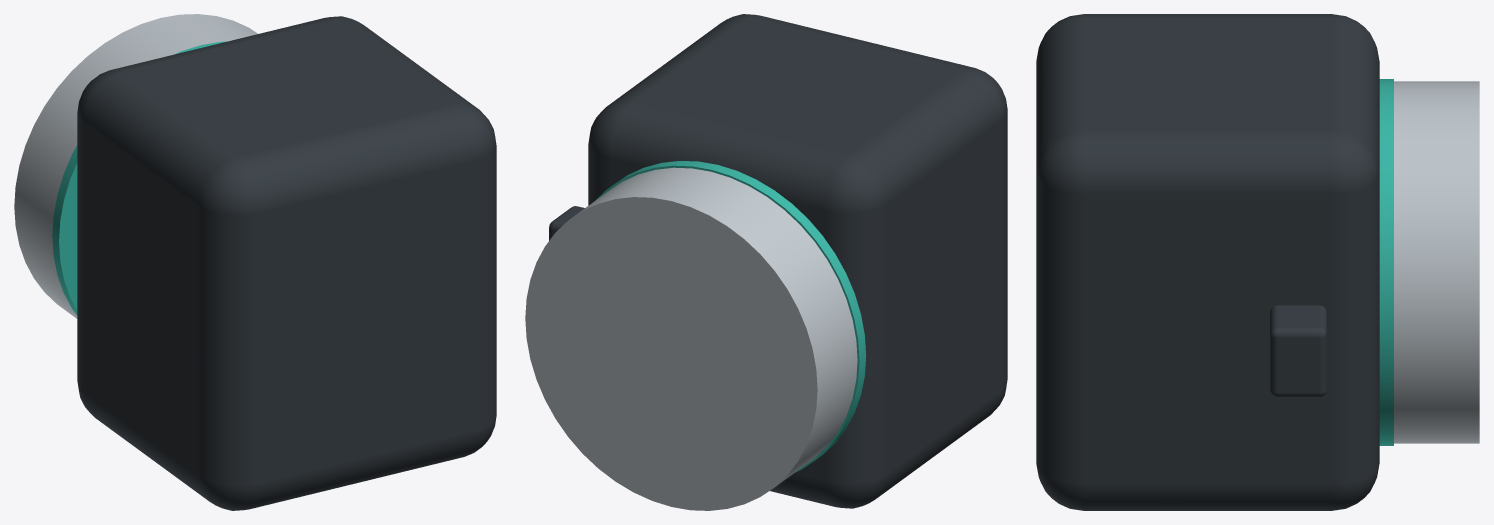
The model's file is mount.obj.
3 views of the same model, side by side, from view 1: azimuth 30°, elevation 25°; view 2: azimuth 150°, elevation 25°; view 3: azimuth 270°, elevation 25° (orthographic). The views are drawn at different scales.
Visible parts, largest first — view 1: housing, robot_flange_clamp_ring, indicator_ring; view 2: housing, robot_flange_clamp_ring, indicator_ring; view 3: housing, robot_flange_clamp_ring, indicator_ring, connector.
Boxes of the visible parts, bbox=[...] form: housing: bbox=[77, 16, 496, 510]; robot_flange_clamp_ring: bbox=[14, 14, 257, 318]; indicator_ring: bbox=[52, 41, 225, 315]; housing: bbox=[588, 14, 1007, 508]; robot_flange_clamp_ring: bbox=[525, 167, 857, 510]; indicator_ring: bbox=[595, 161, 866, 471]; housing: bbox=[1036, 14, 1379, 510]; robot_flange_clamp_ring: bbox=[1394, 81, 1479, 443]; indicator_ring: bbox=[1379, 79, 1393, 445]; connector: bbox=[1270, 305, 1326, 397].
Size of the model in its own units: 0.0895 by 0.087 by 0.093.
